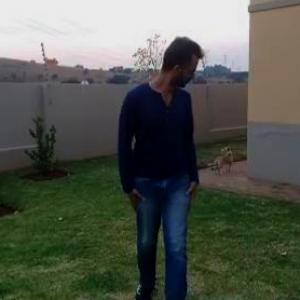follow: (120, 6, 209, 252)
